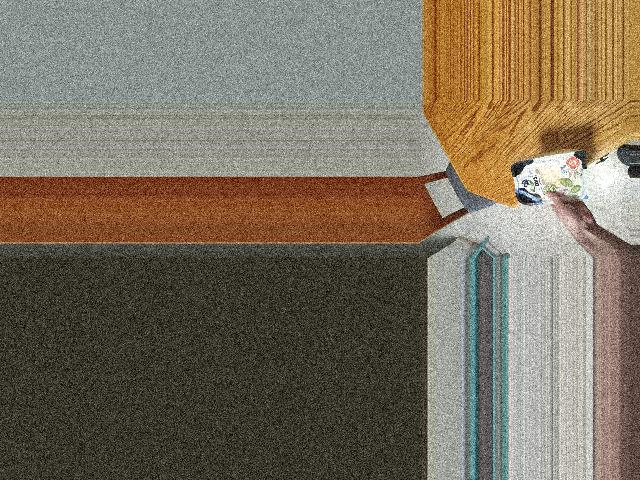cheese: (509, 154, 578, 206)
